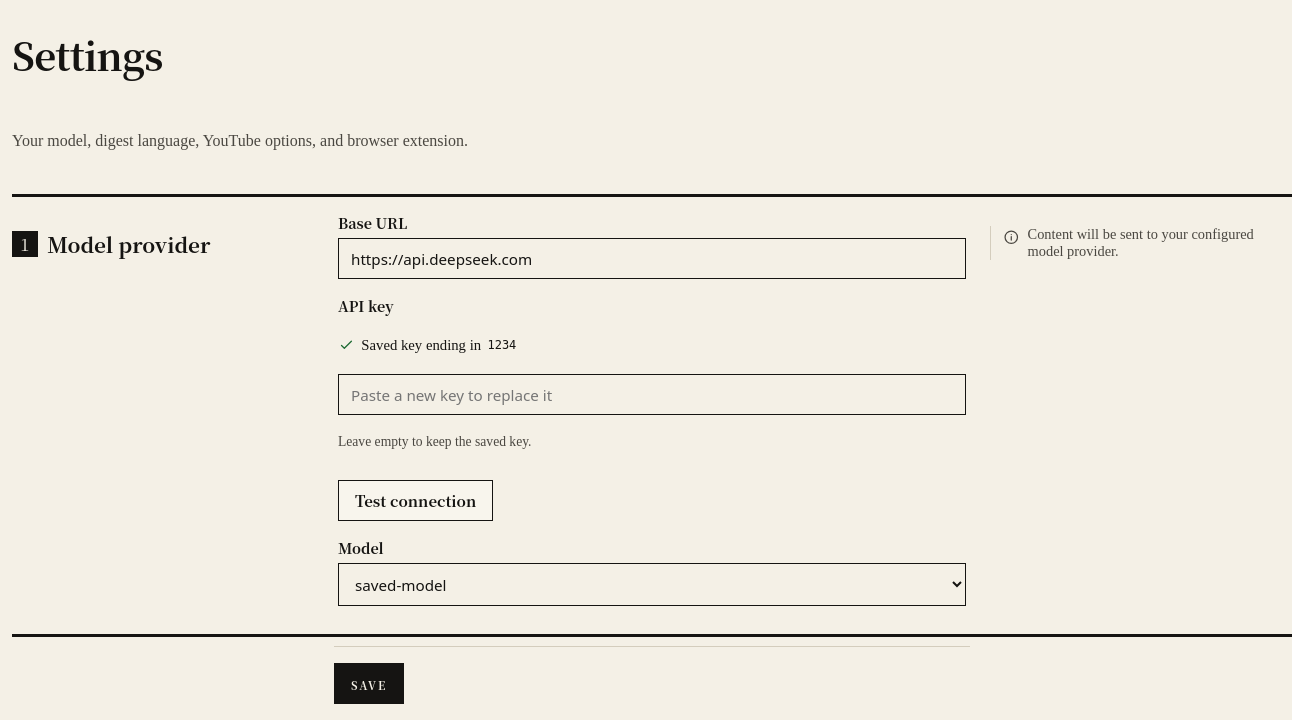
model settings › explains authentication errors
This screenshot has width=1292, height=720.
Check: the password field labelled "API key" is shown, box [338,374,966,415]
What coordinates should you click on to do the following:
click the button "Test connection"
I would click on:
 (416, 500)
Its box is [338,480,493,521].
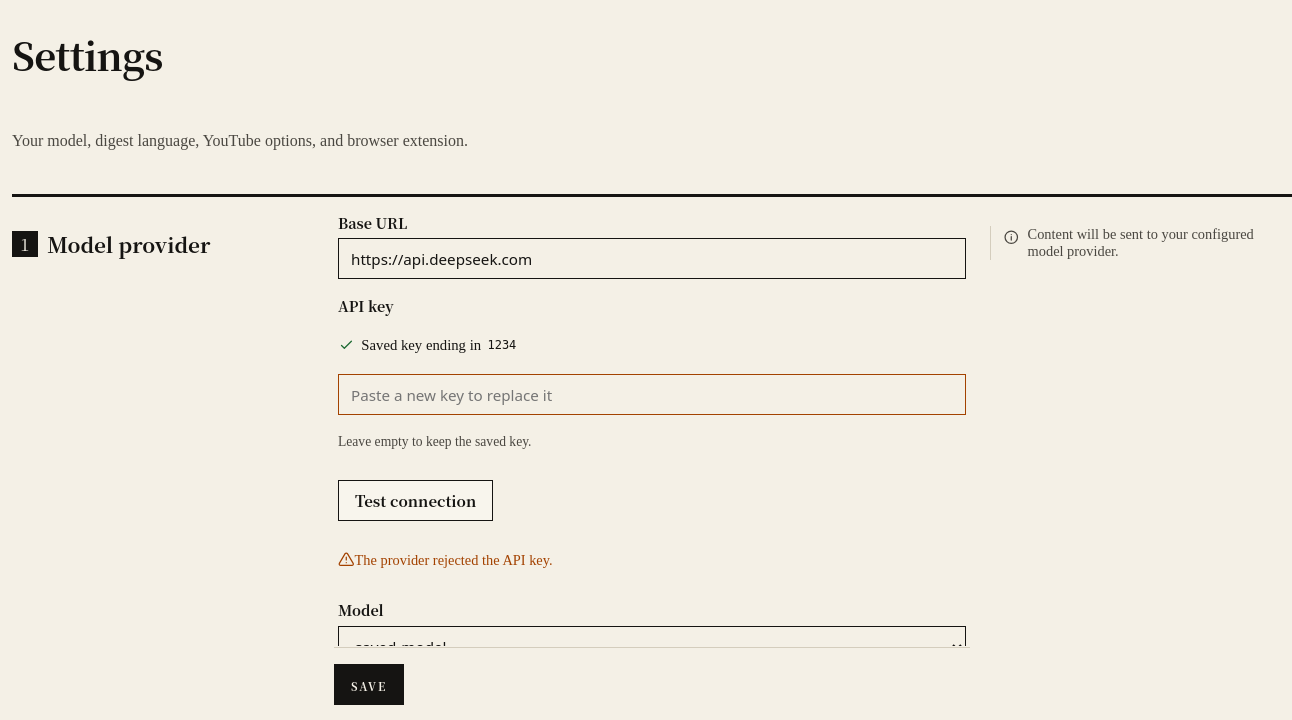
Check: the message shows "rejected the API key", box [354,552,553,568]
